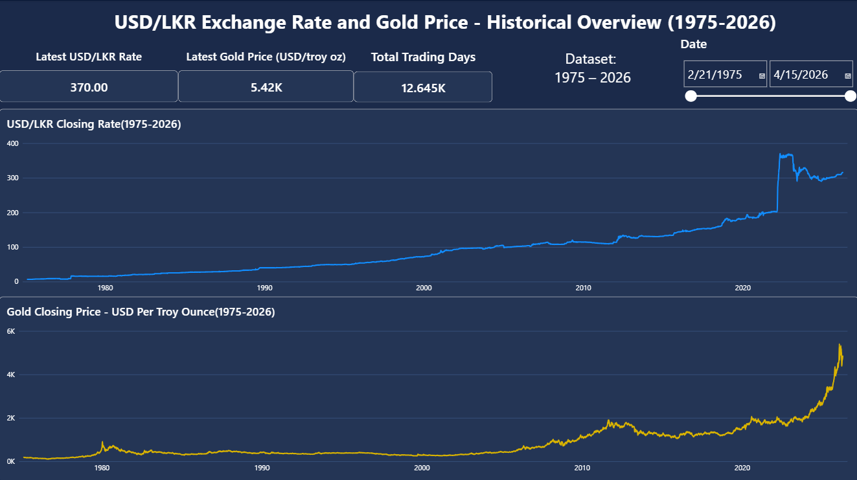

This screenshot's page, from the dashboard's own definition file:
{"tool":"powerbi","page":{"name":"Historical Overview","canvas":[1920,1080],"ordinal":0},"visuals":[{"type":"textbox","box":[76,18.1,1842.2,59.7],"z":0},{"type":"lineChart","title":"USD/LKR Closing Rate(1975-2026)","fields":{"Category":["02_historical_prices.Date"],"Y":["Avg(02_historical_prices.lkr_close)"]},"box":[0,244.3,1920,434],"z":1000},{"type":"lineChart","title":"Gold Closing Price - USD Per Troy Ounce(1975-2026)","fields":{"Category":["02_historical_prices.Date"],"Y":["Avg(02_historical_prices.gold_close)"]},"box":[0,664,1920,416],"z":2000},{"type":"slicer","title":"Date","fields":{"Values":["02_historical_prices.Date"]},"box":[1521.9,77.8,396.3,152],"z":3000},{"type":"cardVisual","title":"Latest USD/LKR Rate","fields":{"Data":["Max(02_historical_prices.lkr_close)"]},"box":[0,108.6,399.9,121.2],"z":4000},{"type":"cardVisual","title":"Latest Gold Price (USD/troy oz)","fields":{"Data":["Max(02_historical_prices.gold_close)"]},"box":[399.9,108.6,392.7,121.2],"z":5000},{"type":"cardVisual","title":"Total Trading Days","fields":{"Data":["CountNonNull(02_historical_prices.lkr_close)"]},"box":[792.6,106.8,309.5,123.1],"z":6000},{"type":"textbox","box":[232,304,168,96],"z":7000},{"type":"textbox","box":[1150.9,108.6,349.3,121.2],"z":8000}]}

Visuals, with their boxes in screenshot pixels (x1, y1, x2, y2), scaled from the page's 1920x1080 canvas onto the 857x480 screenshot:
textbox: {"left": 34, "top": 8, "right": 856, "bottom": 35}
"USD/LKR Closing Rate(1975-2026)" lineChart: {"left": 0, "top": 109, "right": 856, "bottom": 301}
"Gold Closing Price - USD Per Troy Ounce(1975-2026)" lineChart: {"left": 0, "top": 295, "right": 856, "bottom": 479}
"Date" slicer: {"left": 679, "top": 35, "right": 856, "bottom": 102}
"Latest USD/LKR Rate" cardVisual: {"left": 0, "top": 48, "right": 178, "bottom": 102}
"Latest Gold Price (USD/troy oz)" cardVisual: {"left": 178, "top": 48, "right": 354, "bottom": 102}
"Total Trading Days" cardVisual: {"left": 354, "top": 47, "right": 492, "bottom": 102}
textbox: {"left": 104, "top": 135, "right": 179, "bottom": 178}
textbox: {"left": 514, "top": 48, "right": 670, "bottom": 102}
